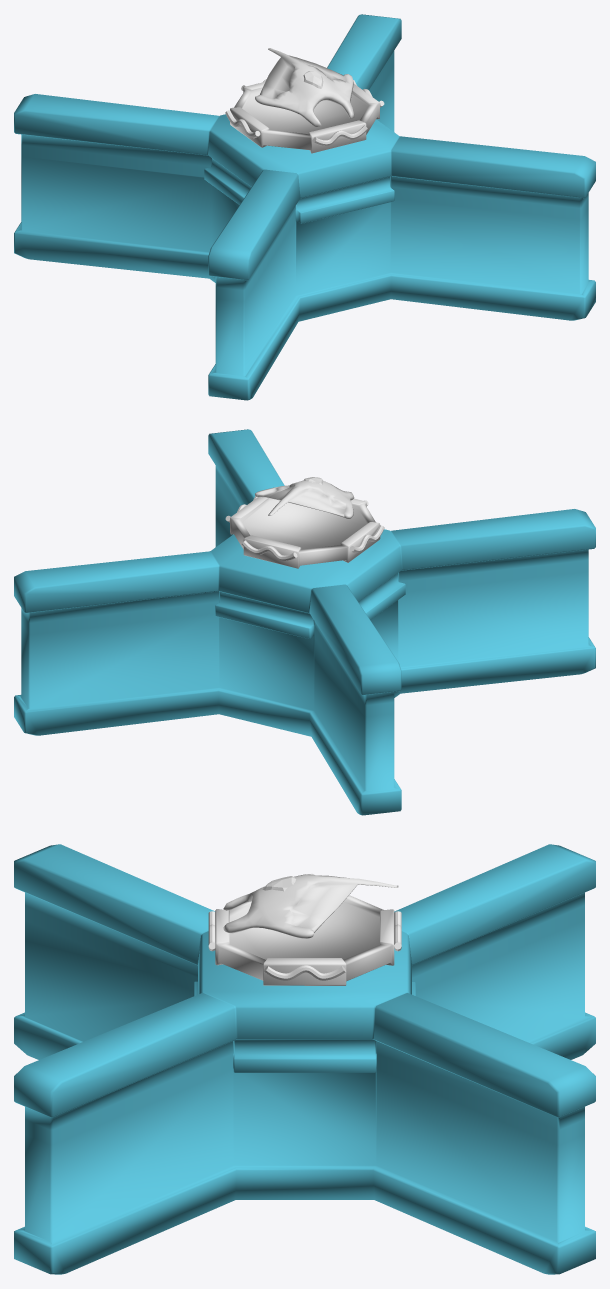
Rendered from all3.fbx.
3 views of the same model, one above another, from view 1: azimuth 30°, elevation 25°; view 2: azimuth 150°, elevation 25°; view 3: azimuth 270°, elevation 25° (orthographic). The views are drawn at different scales.
Visible parts, largest first — view 1: Box1_low, Box2_low, ray_low, box3_low; view 2: Box1_low, Box2_low, ray_low, box3_low; view 3: Box1_low, Box2_low, ray_low, box3_low.
Part boxes in pixels (<box>): Box1_low: <box>14,14,595,400</box>; Box2_low: <box>230,82,380,153</box>; ray_low: <box>255,48,354,126</box>; box3_low: <box>225,79,384,145</box>; Box1_low: <box>14,429,595,815</box>; Box2_low: <box>230,497,380,568</box>; ray_low: <box>255,480,354,518</box>; box3_low: <box>225,496,384,560</box>; Box1_low: <box>14,844,595,1274</box>; Box2_low: <box>215,895,394,985</box>; ray_low: <box>223,874,398,938</box>; box3_low: <box>208,911,401,980</box>.
Size of the model in its own units: 197 by 197 by 104.
